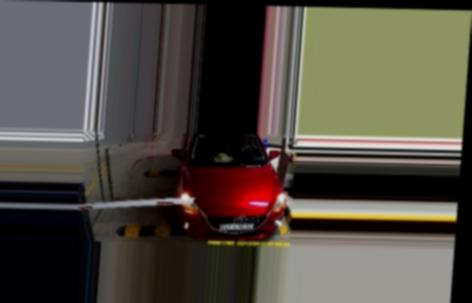License_Plate: (219, 221, 254, 233)
